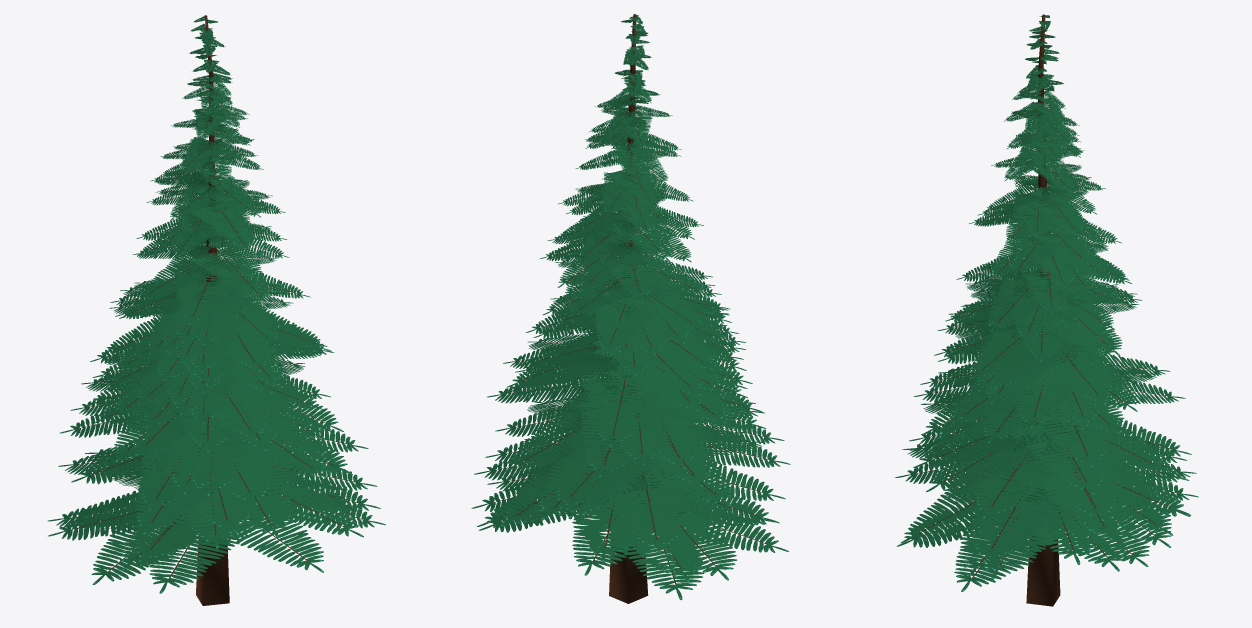
The model's file is pine_tree_LOD0.fbx.
3 views of the same model, side by side, from view 1: azimuth 30°, elevation 25°; view 2: azimuth 150°, elevation 25°; view 3: azimuth 270°, elevation 25° (orthographic).
Parts seen in each view (by area): view 1: Pine_Tree; view 2: Pine_Tree; view 3: Pine_Tree.
Part boxes in pixels (x1=…): Pine_Tree: x1=47, y1=15, x2=385, y2=605; Pine_Tree: x1=471, y1=14, x2=790, y2=603; Pine_Tree: x1=895, y1=14, x2=1198, y2=606.
Size of the model in its own units: 440 by 710 by 431.
Materials: 2 (1 with a texture image).
